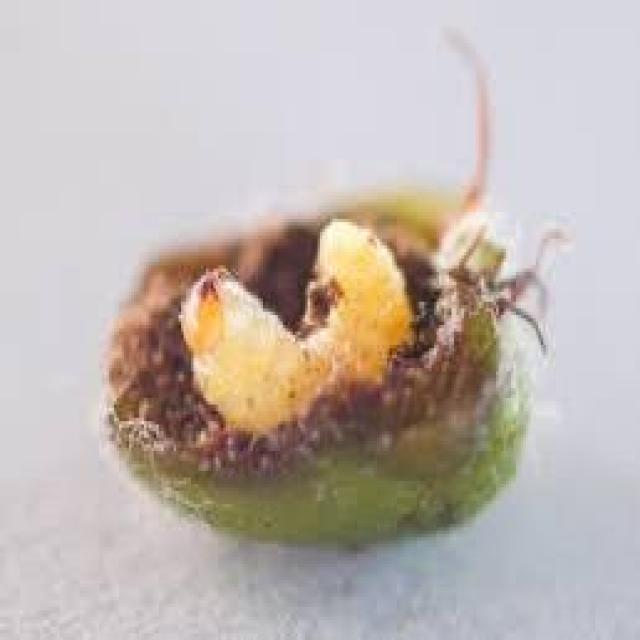Olive Fruit Fly: (107, 186, 543, 541)
